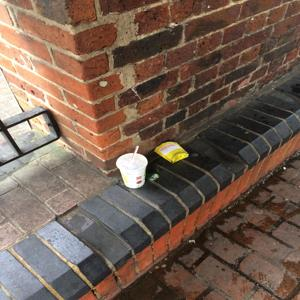cardboard: (115, 163, 154, 195)
paper: (152, 131, 196, 163)
plastic: (114, 152, 149, 173), (124, 142, 142, 162)
